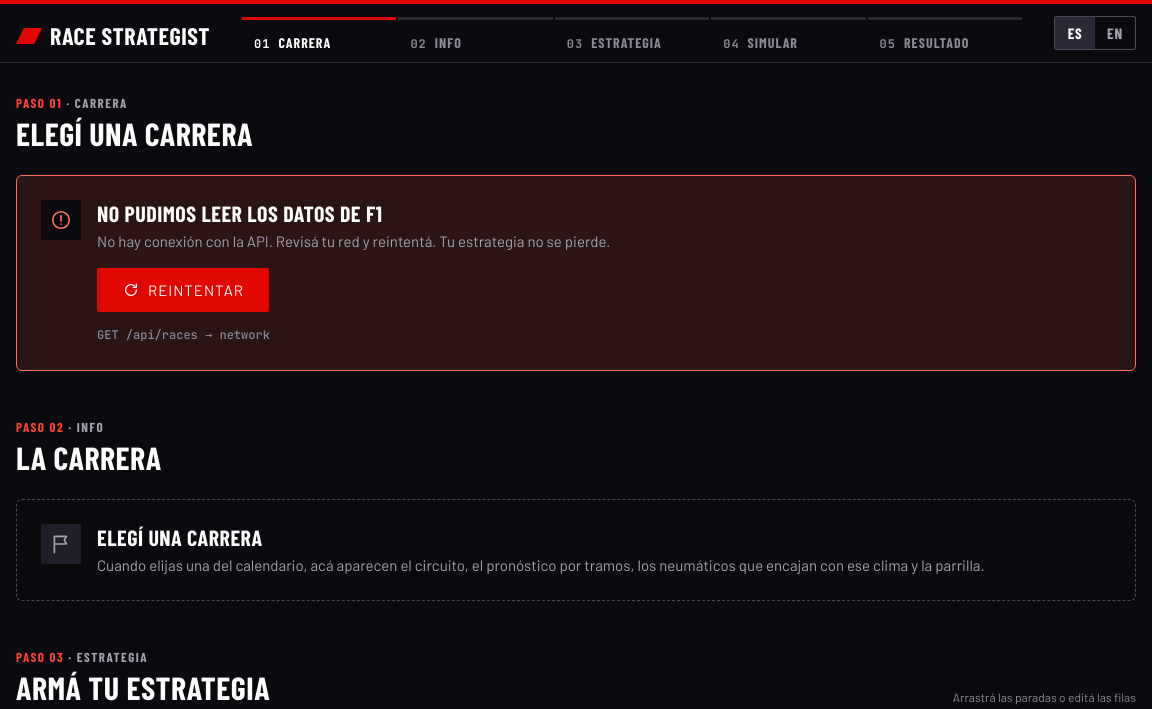
Test: App › shows the api error and recovers on retry
Check: the heading "No pudimos leer los datos de F1" is shown, box [97,200,382,226]
Click the button "Reintentar": click(183, 290) [97,268,269,312]
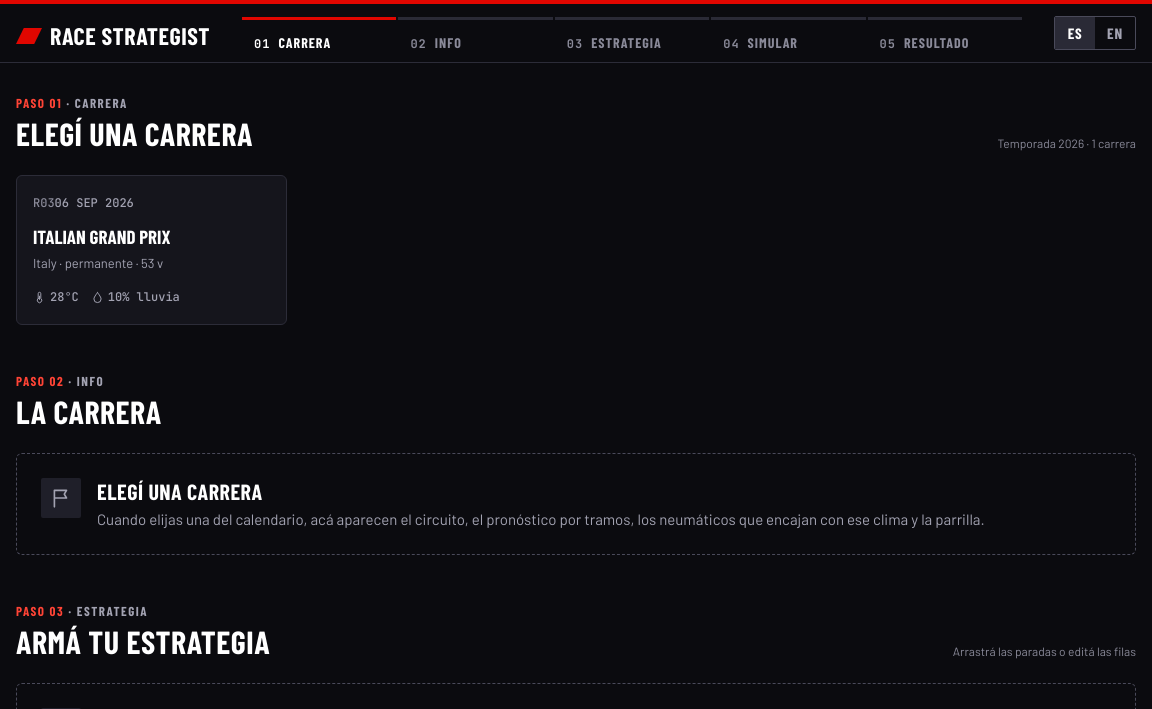
Check: the text "Temporada 2026 · 1 carrera" is shown, box [997,135,1136,151]
